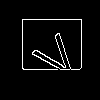V: (25, 25, 83, 82)
